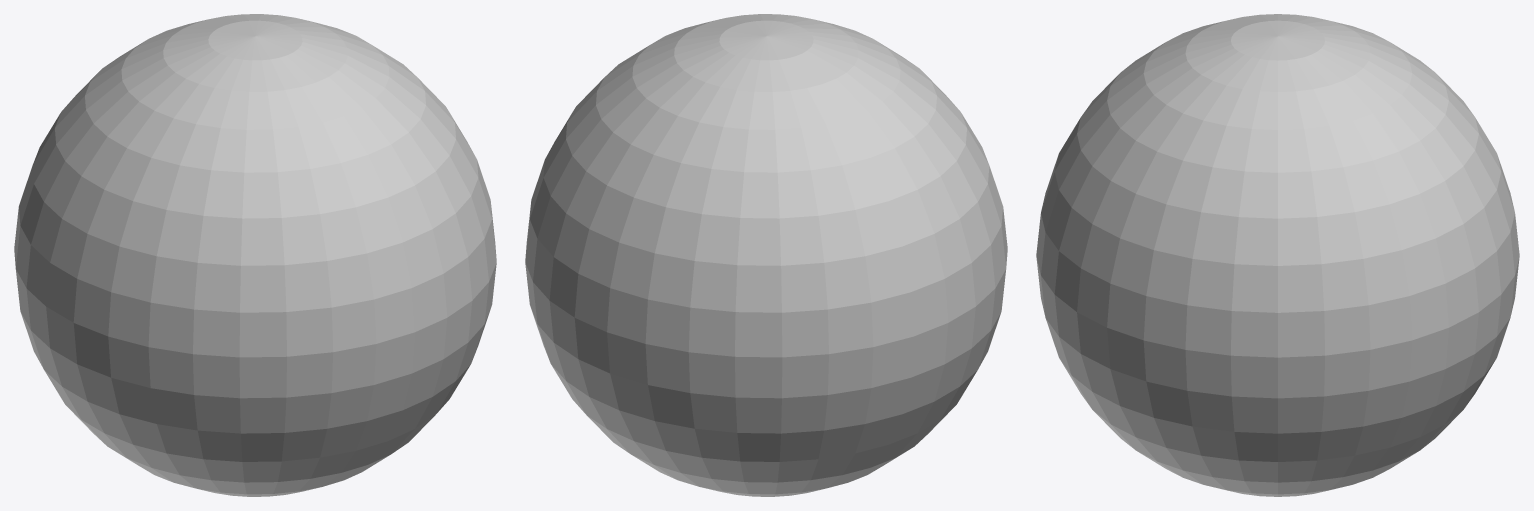
File: BlackFlash.glb
3 renders of one model, left to right at view 1: azimuth 30°, elevation 25°; view 2: azimuth 150°, elevation 25°; view 3: azimuth 270°, elevation 25°, orthographic.
Parts seen in each view (by area): view 1: Shard8, Shard10, Shard5, Shard4, Shard6, Shard7, Shard11, Shard2, Shard9; view 2: Shard4, Shard3, Shard10, Shard12, Shard11, Shard1, Shard8; view 3: Shard6, Shard3, Shard4, Shard8, Shard5, Shard1, Shard9.
Part boxes in pixels (left/top/right/bottom): Shard8: left=193, top=30, right=435, bottom=398; Shard10: left=15, top=79, right=231, bottom=377; Shard5: left=284, top=45, right=470, bottom=457; Shard4: left=14, top=14, right=370, bottom=267; Shard6: left=310, top=78, right=496, bottom=478; Shard7: left=133, top=388, right=326, bottom=494; Shard11: left=21, top=313, right=193, bottom=467; Shard2: left=112, top=449, right=248, bottom=496; Shard9: left=247, top=455, right=389, bottom=496; Shard4: left=596, top=20, right=944, bottom=387; Shard3: left=525, top=78, right=737, bottom=457; Shard10: left=854, top=43, right=1007, bottom=377; Shard12: left=695, top=347, right=910, bottom=495; Shard11: left=871, top=313, right=1000, bottom=467; Shard1: left=586, top=415, right=799, bottom=496; Shard8: left=651, top=14, right=959, bottom=110; Shard6: left=1045, top=129, right=1324, bottom=481; Shard3: left=1311, top=128, right=1519, bottom=436; Shard4: left=1213, top=14, right=1500, bottom=171; Shard8: left=1041, top=25, right=1277, bottom=231; Shard5: left=1036, top=129, right=1277, bottom=335; Shard1: left=1317, top=391, right=1462, bottom=484; Shard9: left=1139, top=432, right=1371, bottom=496.
Size of the model in its own units: 2 by 2 by 2.
Materials: 2 (2 with a texture image).
